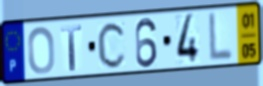4: (175, 12, 201, 67)
6: (134, 15, 159, 70)
C: (96, 20, 128, 70)
L: (207, 10, 234, 64)
O: (26, 25, 56, 76)
T: (59, 23, 84, 72)
